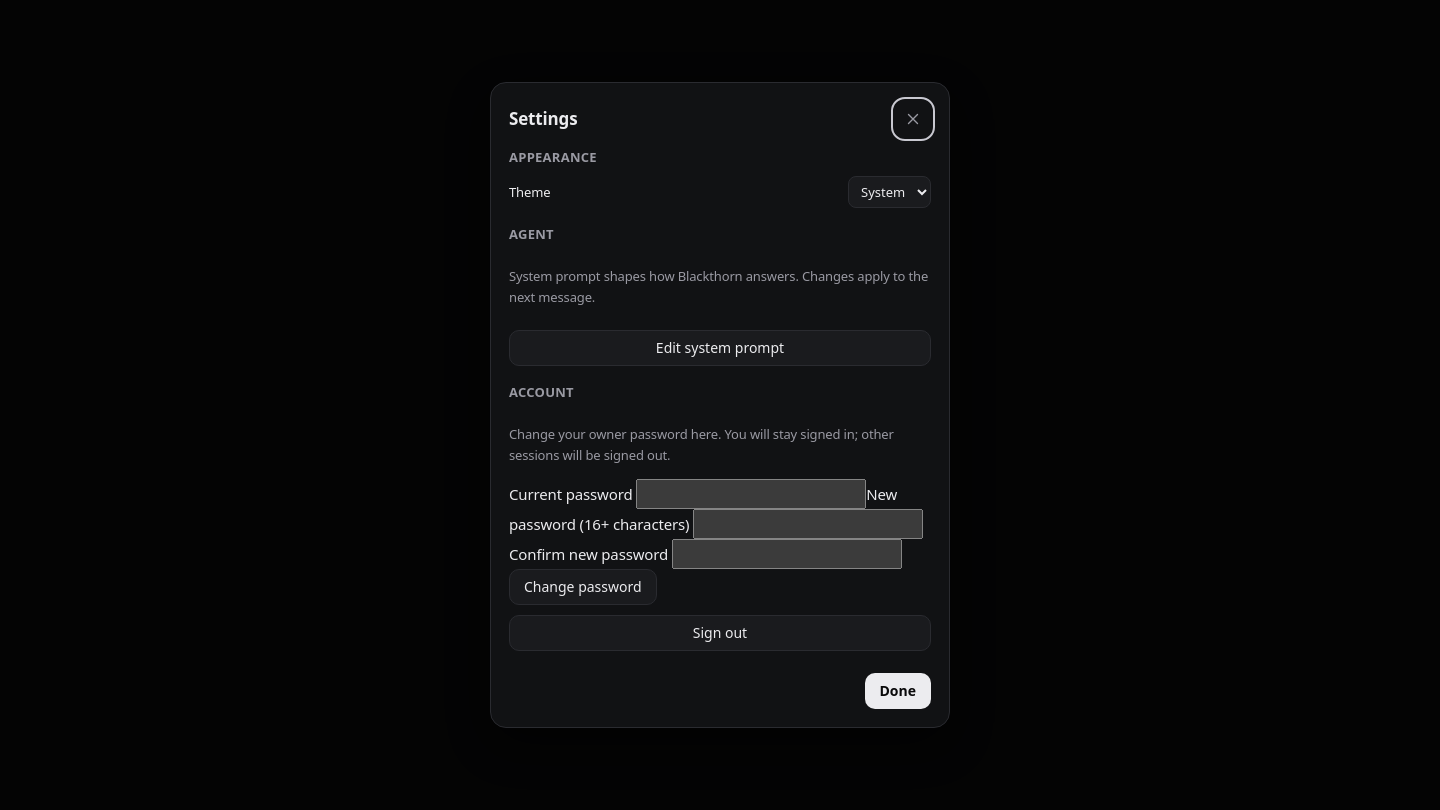
it: password settings › prevents mismatched confirmation without sending a credential
This screenshot has width=1440, height=810.
Type "old-password-123456" into the password field labelled "Current password" at (751, 494), box left=636, top=479, right=866, bottom=509
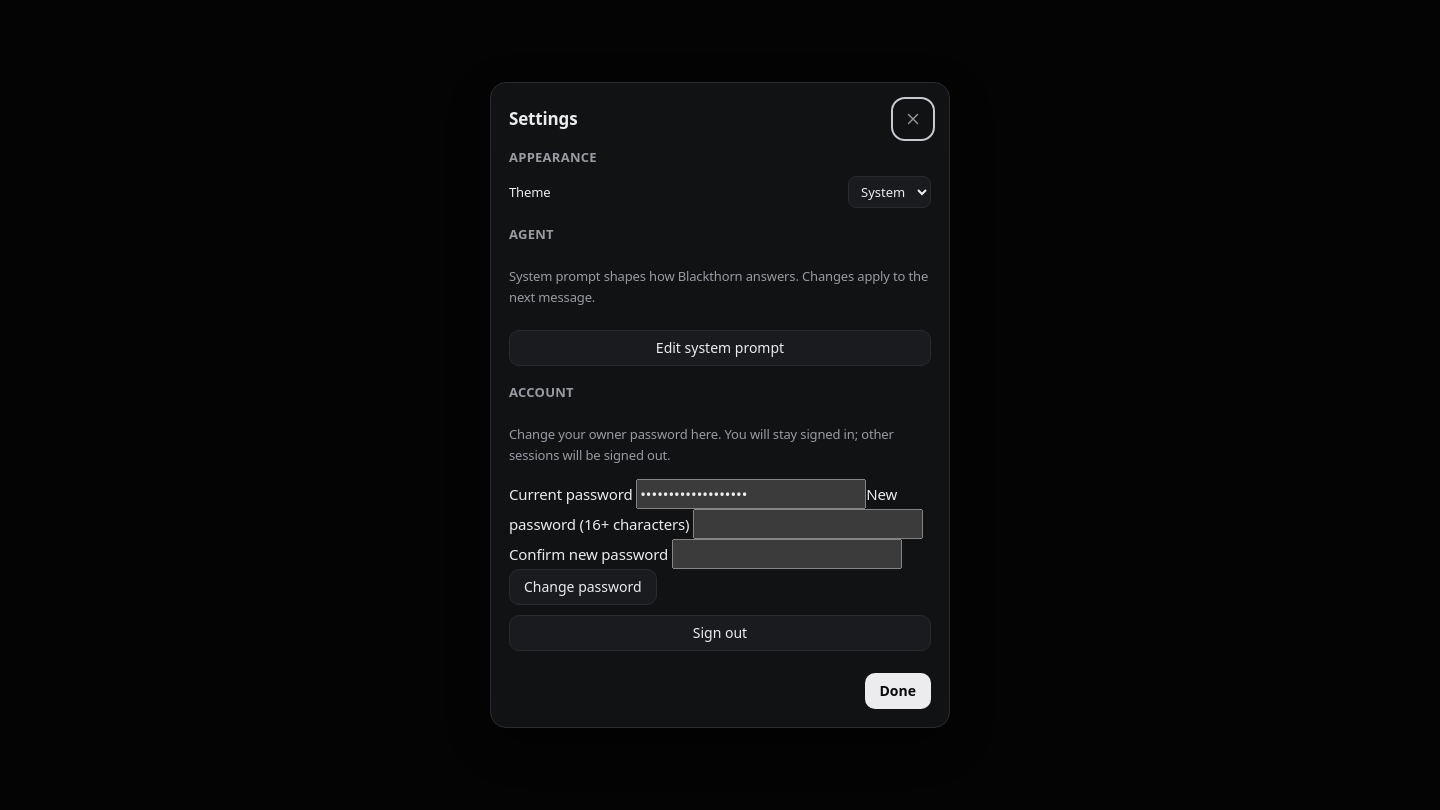
Type "a-strong-new-password-123456" into the password field labelled "New password (16+ characters)" at (808, 524), box left=693, top=509, right=923, bottom=539
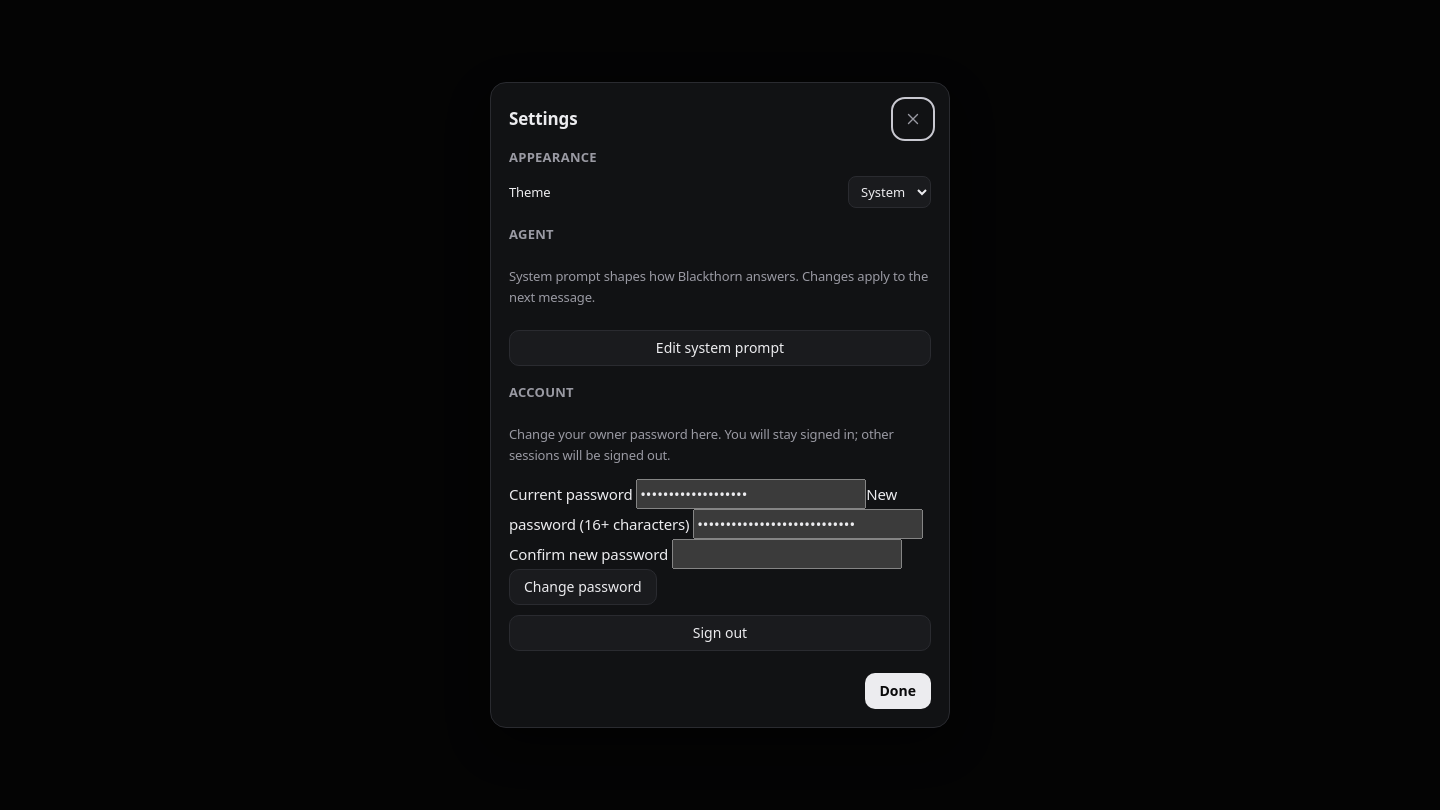
Type "different-password-123456" into the password field labelled "Confirm new password" at (787, 554), box left=672, top=539, right=902, bottom=569
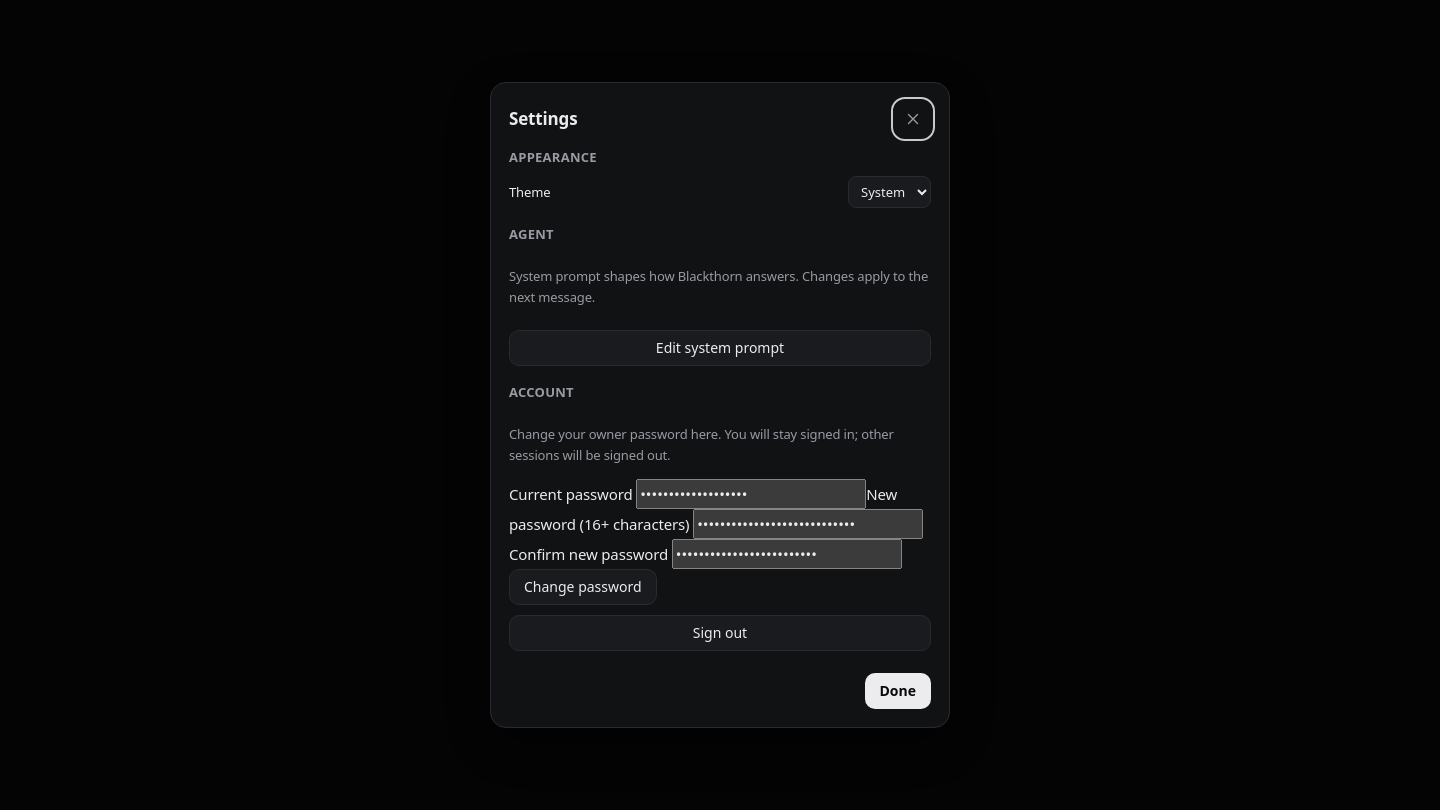
Click the button "Change password" at (583, 587), box left=509, top=569, right=657, bottom=605
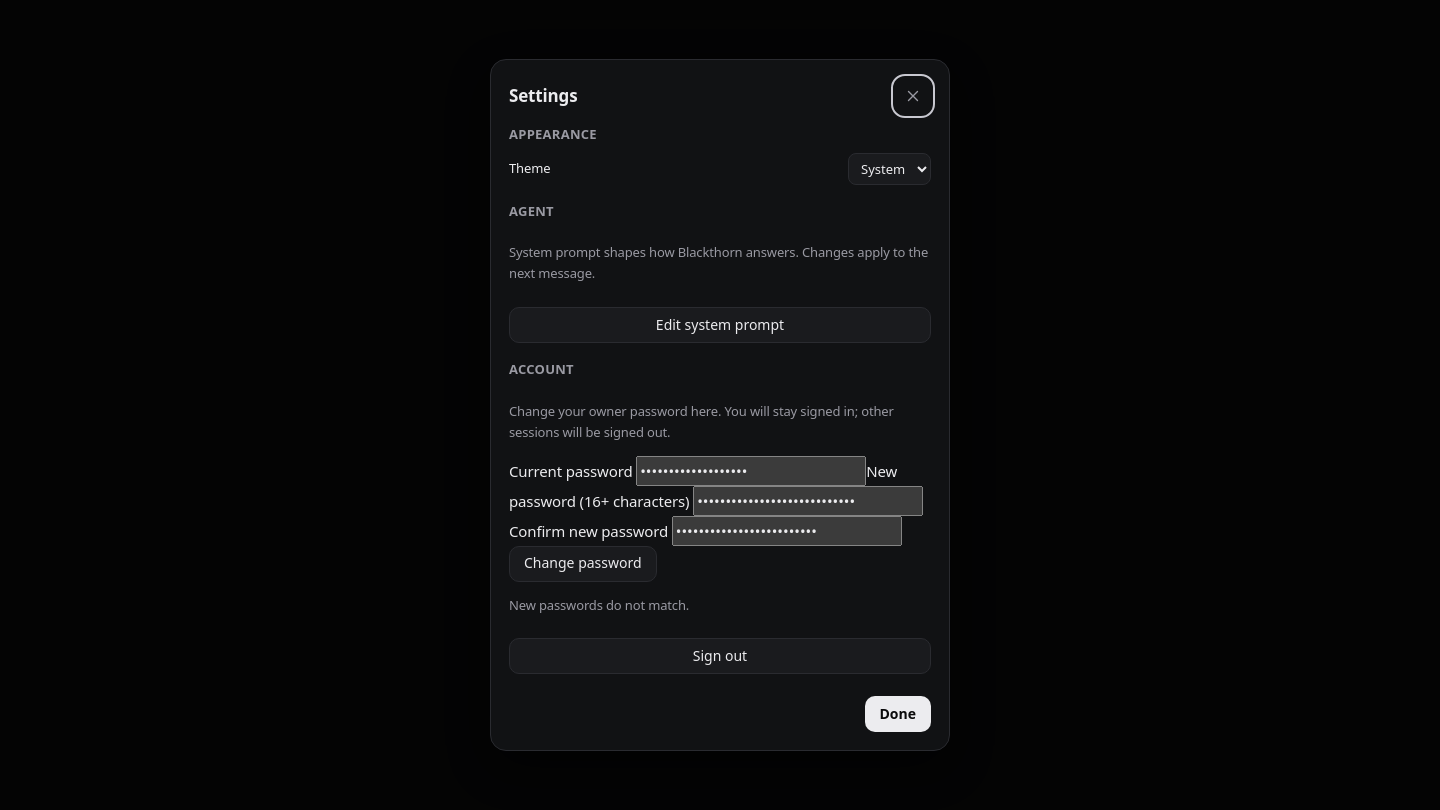
Check: the message shows "do not match", box left=509, top=596, right=689, bottom=614
